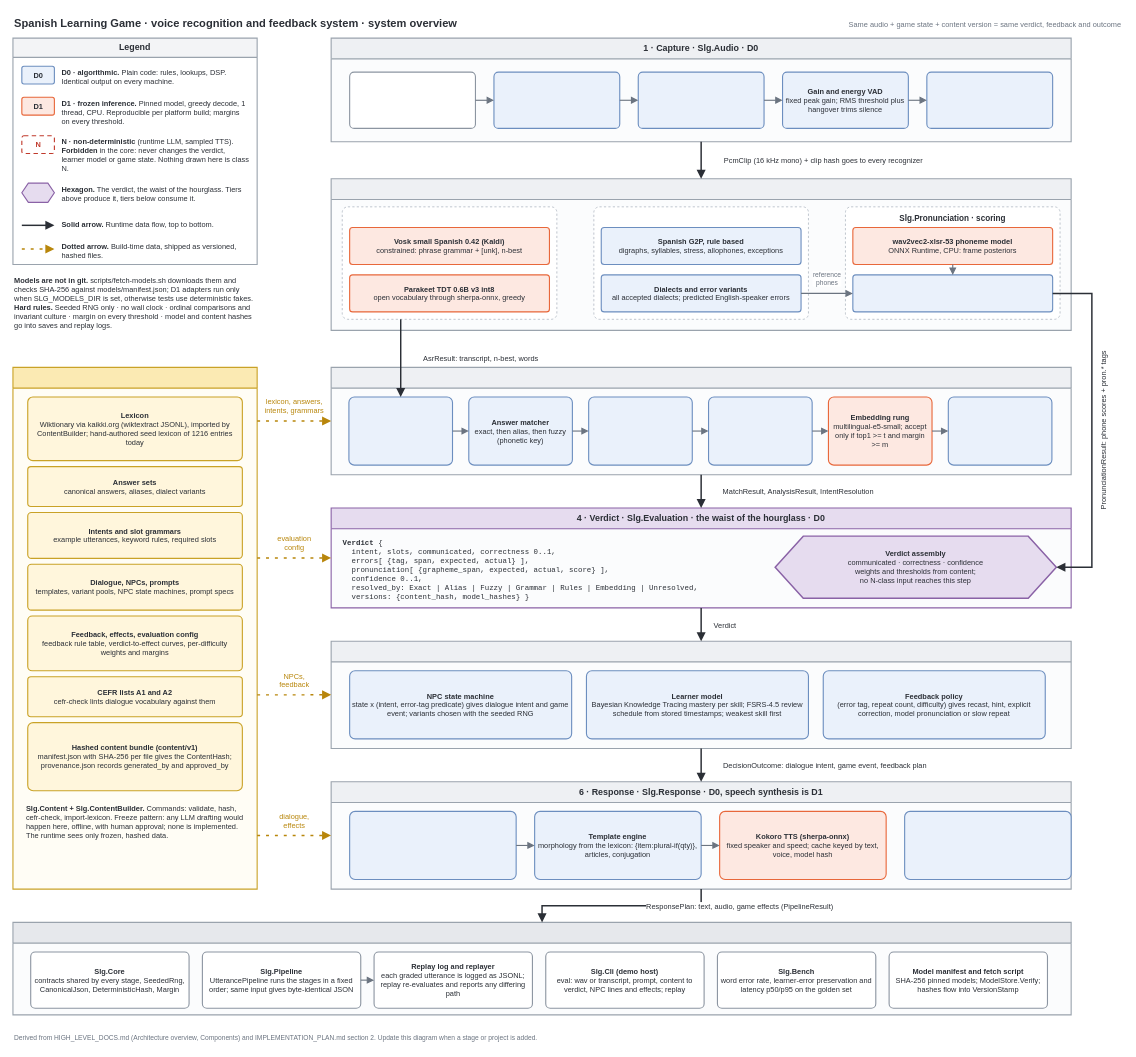
Image size: 1136x1057. Some labels were removed from this diagram. Here are the shapes that lost their labels. From the top down, the box of each, then its label:
(349, 71, 476, 129): Microphone or WAV file ICaptureSource, WavFileCaptureSource
(493, 71, 620, 129): Push-to-talk session Begin, Append, End: the key press sets the utterance bounds
(637, 71, 764, 129): Downmix and resample to 16 kHz mono with a fixed windowed-sinc kernel
(926, 71, 1053, 129): PcmClip and clip hash SHA-256 over the little-endian samples
(342, 206, 557, 319): Slg.Asr · word recognition
(330, 178, 1071, 331): 2 · Recognition · what was said, and how it was said
(593, 206, 808, 319): Slg.Phonology · reference phones · D0
(852, 274, 1053, 312): CTC forced alignment and GOP per-phone scores, pron.* error tags (D0)
(348, 396, 453, 465): Text normalizer NFC, lowercase, number words, punctuation
(588, 396, 692, 465): Linguistic analysis lexicon, agreement rules, slot grammar
(330, 367, 1071, 475): 3 · Evaluation · Slg.Nlp · D0 rules, cheapest first, one D1 rung
(708, 396, 812, 465): Intent rules slot grammar match, then lemma keyword rules
(947, 396, 1052, 465): Repair strategy no match: Como?, slow repeat, 2-3 spoken choices
(12, 367, 257, 889): Build-time content (offline)
(330, 640, 1071, 749): 5 · Decision · Slg.Decision · D0
(349, 811, 516, 880): Recast builder rebuilds the corrected sentence from the player's own slots
(904, 811, 1071, 880): Game effects table from verdict to effect: spell power %, trade price factor
(12, 922, 1071, 1015): Orchestration and tooling · Slg.Pipeline · Slg.Cli · Slg.Bench · Slg.Core
